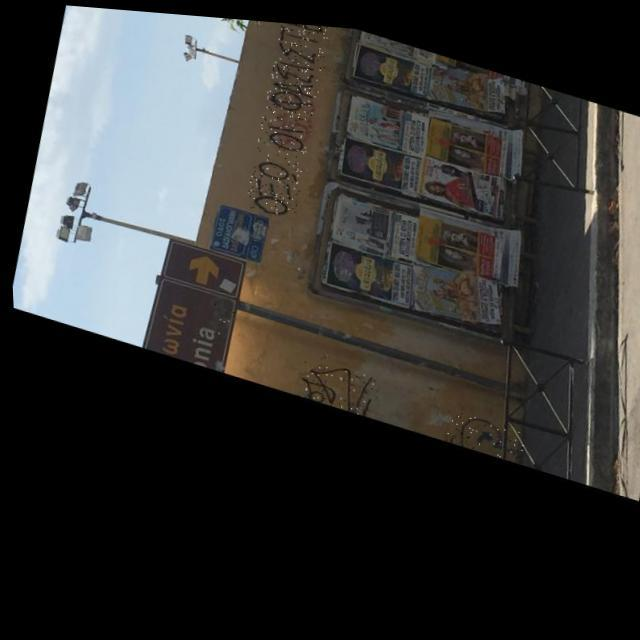-: (236, 15, 338, 219), (293, 351, 374, 412), (440, 400, 523, 456), (198, 288, 235, 333), (286, 244, 310, 278)
